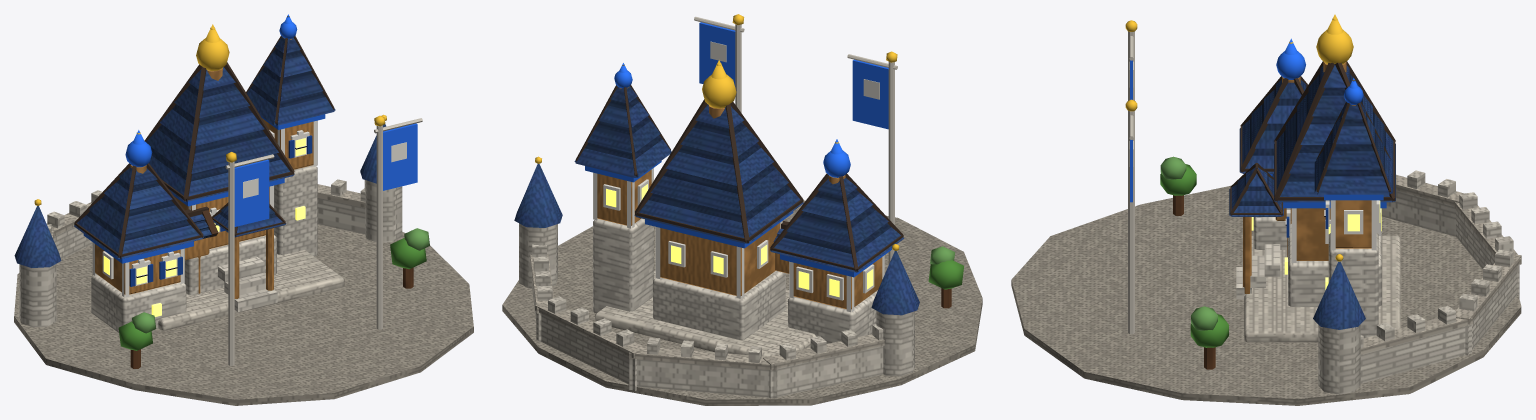
File: residence_dl3_blue.glb
3 renders of one model, left to right at view 1: azimuth 30°, elevation 25°; view 2: azimuth 150°, elevation 25°; view 3: azimuth 270°, elevation 25°, orthographic. The views are drawn at different scales.
Visible parts, largest first — view 1: residence_dl3_blue; view 2: residence_dl3_blue; view 3: residence_dl3_blue.
Boxes of the visible parts, x1,y1,x2,y2 form: residence_dl3_blue: (14, 14, 473, 405); residence_dl3_blue: (502, 14, 982, 405); residence_dl3_blue: (1011, 14, 1521, 405).
Size of the model in its own units: 1.64 by 1.01 by 1.63.
2 materials, 1 textured.
